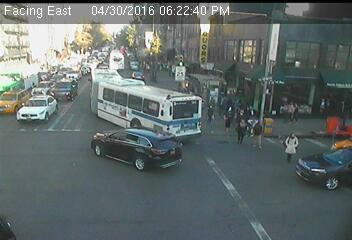neg: (75, 169, 97, 199), (268, 182, 289, 209), (66, 120, 86, 147), (30, 146, 49, 171), (59, 76, 78, 101), (318, 196, 337, 221), (16, 44, 35, 68), (39, 96, 57, 120), (51, 204, 68, 227), (207, 49, 224, 72), (158, 90, 175, 112), (71, 15, 88, 37), (159, 137, 175, 158), (218, 181, 233, 201), (128, 14, 143, 34), (52, 32, 67, 52), (151, 188, 165, 208), (90, 99, 104, 117), (175, 29, 188, 47), (100, 64, 113, 82), (207, 137, 219, 152), (131, 96, 142, 111), (242, 181, 253, 195), (246, 52, 256, 66), (164, 65, 174, 78), (121, 50, 131, 63), (315, 71, 322, 80), (285, 58, 288, 61)
pos: (278, 129, 303, 162), (245, 118, 267, 147), (231, 117, 253, 146), (331, 96, 351, 124), (219, 110, 239, 136), (314, 93, 333, 119), (286, 98, 305, 122), (202, 105, 220, 129), (283, 97, 298, 117)
